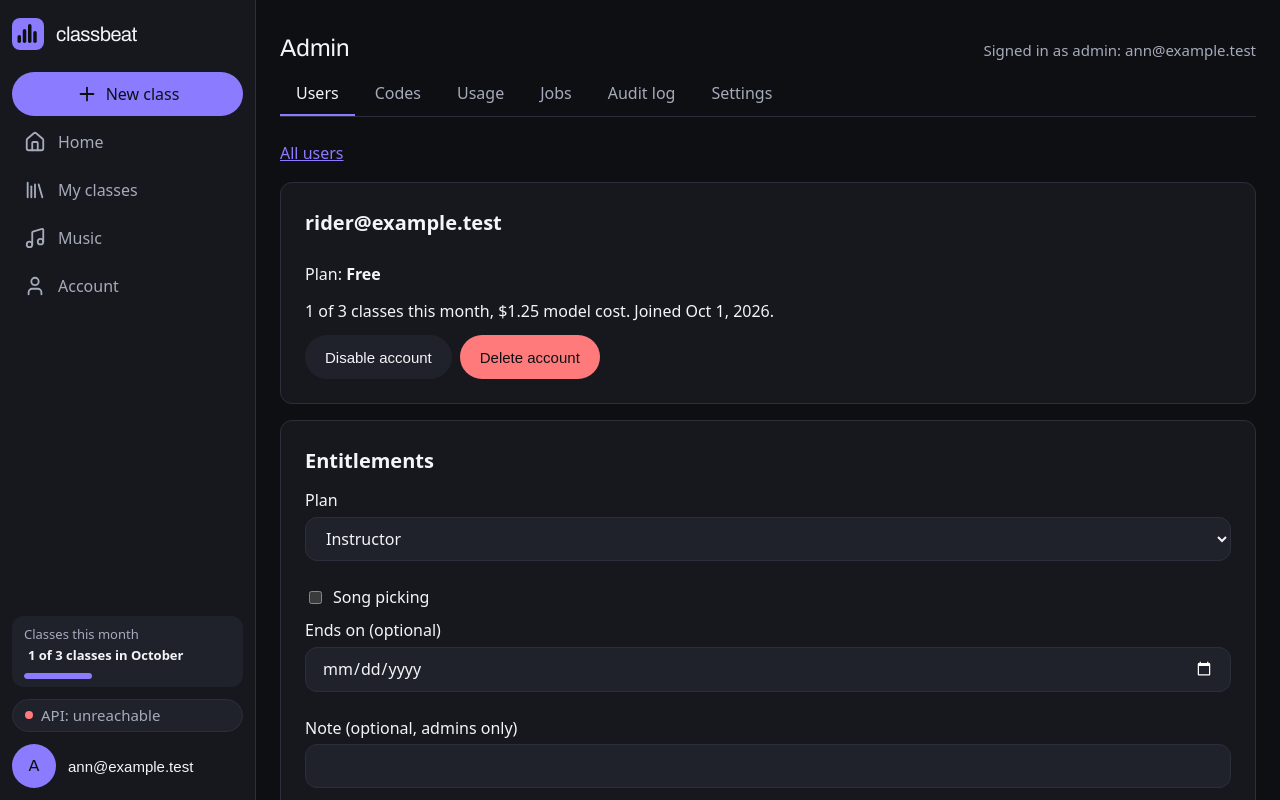
Test case: step-up › keeps the dialog open on a wrong code and clears the field
The width and height of the screenshot is (1280, 800).
Click the button "Disable account": point(378, 357) [305,335,452,379]
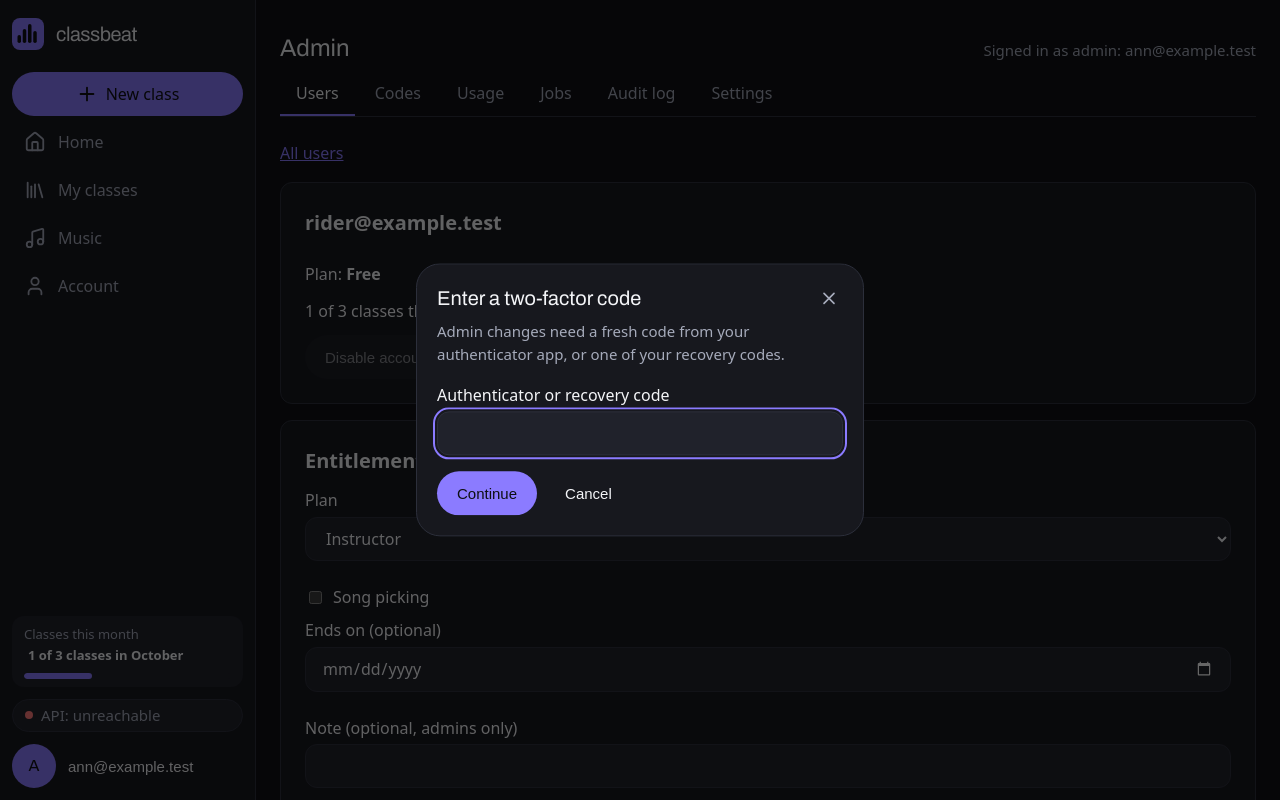
In the field labelled "Authenticator or recovery code": point(640, 434) [437,412,843,456], type "000000"
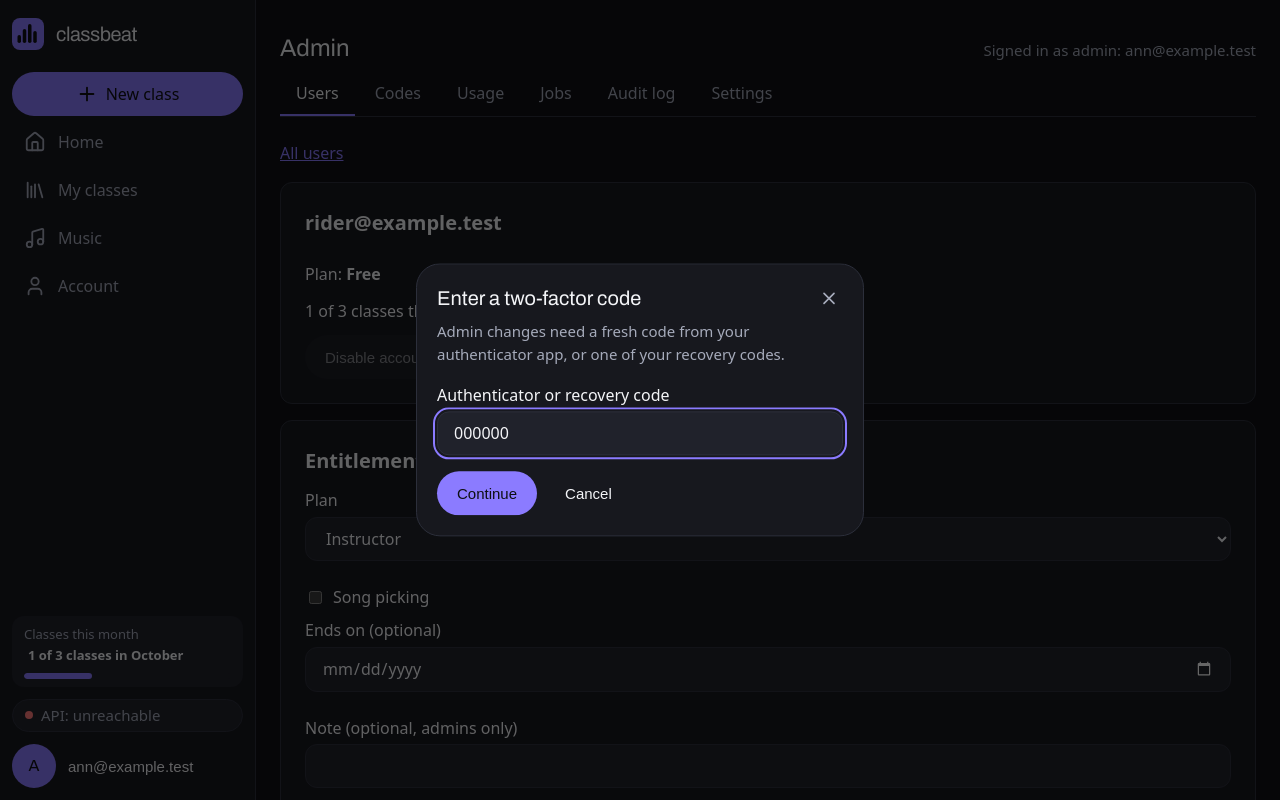
Click the button "Continue": point(487, 494) [437,472,537,516]
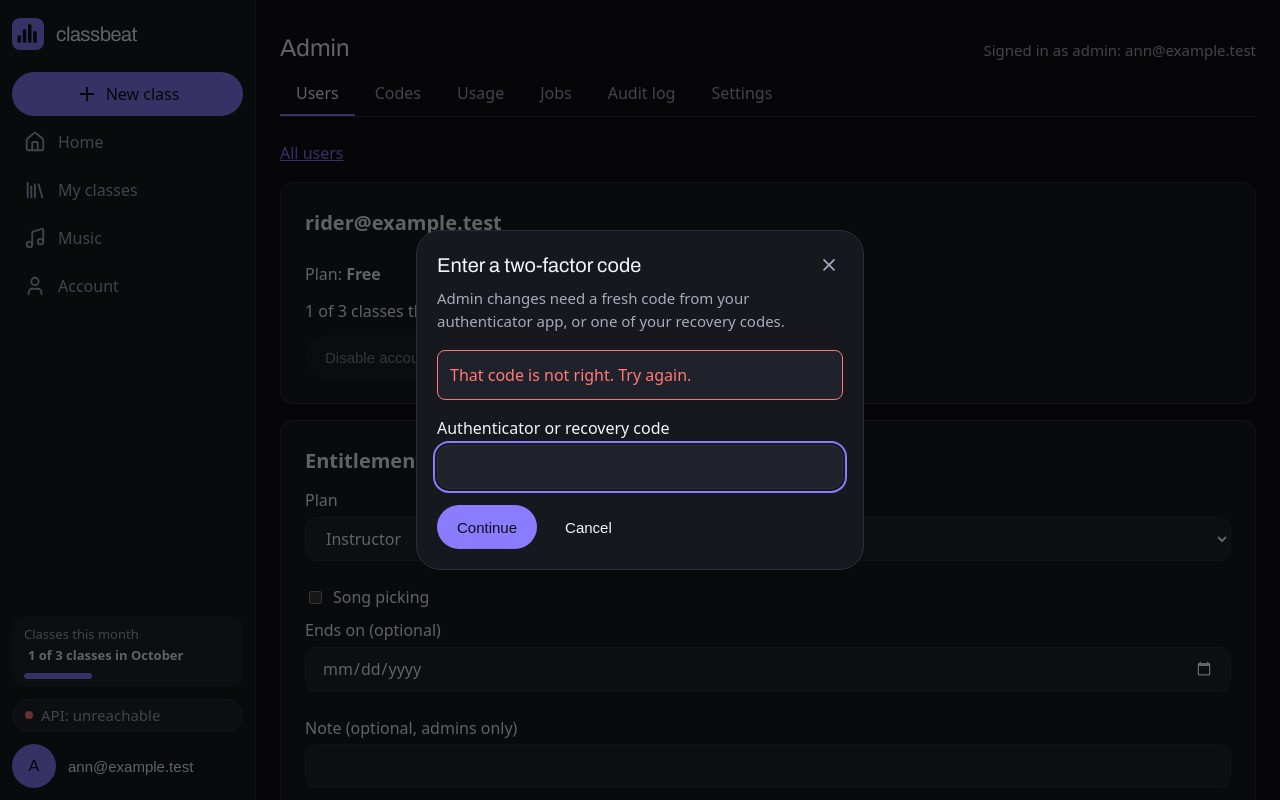
Expected: the text "That code is not right. Try again." is shown, [437,350,843,400]
Expected: the field labelled "Authenticator or recovery code" is empty, [437,445,843,489]
